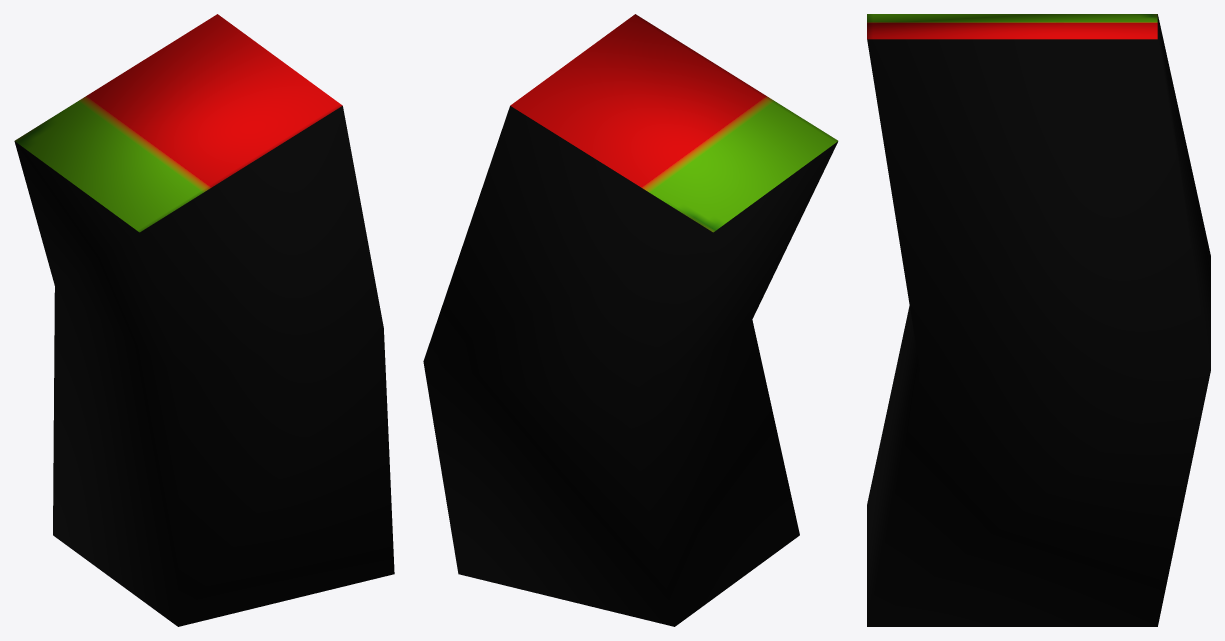
3 renders of one model, left to right at view 1: azimuth 30°, elevation 25°; view 2: azimuth 150°, elevation 25°; view 3: azimuth 270°, elevation 25°, orthographic. The views are drawn at different scales.
Parts seen in each view (by area): view 1: T1L1M004_20; view 2: T1L1M004_20; view 3: T1L1M004_20.
Boxes of the visible parts, x1=… form: T1L1M004_20: x1=14, y1=14, x2=394, y2=626; T1L1M004_20: x1=423, y1=14, x2=838, y2=626; T1L1M004_20: x1=867, y1=14, x2=1210, y2=626.
Size of the model in its own units: 0.4941 by 0.8506 by 0.4746.
